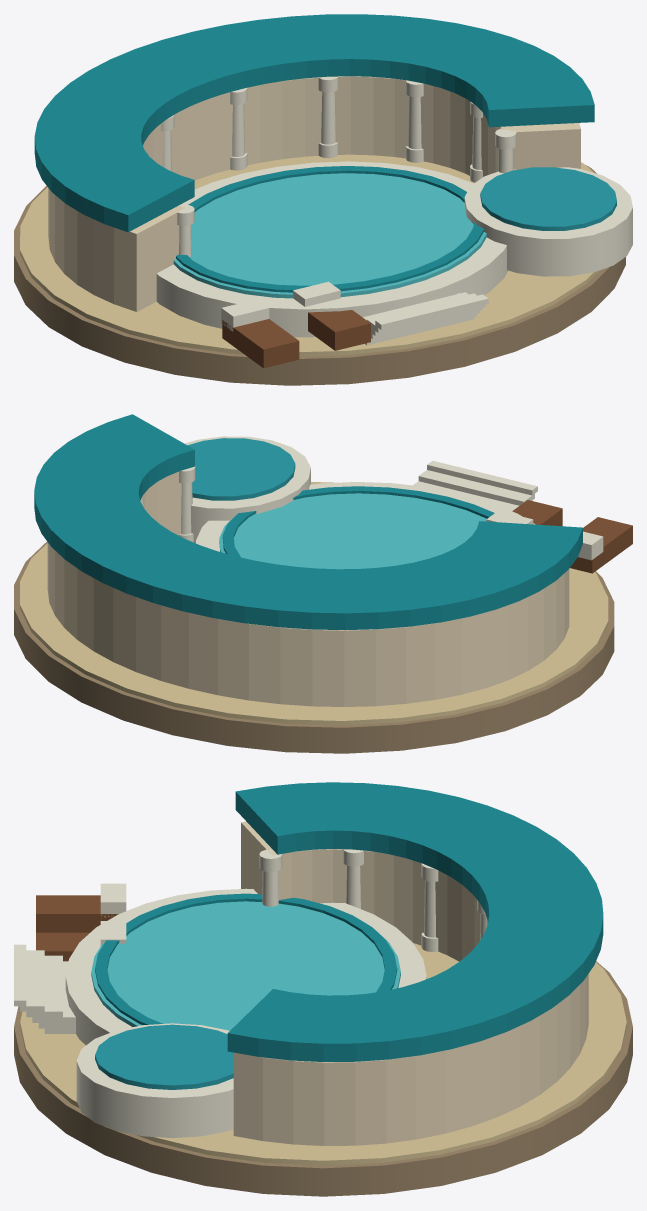
File: recovery-center-lv2.glb
The picture shows the model from 3 angles, top to bottom: view 1: azimuth 30°, elevation 25°; view 2: azimuth 150°, elevation 25°; view 3: azimuth 270°, elevation 25°; orthographic projection. The views are drawn at different scales.
Parts seen in each view (by area): view 1: crescent_roof_aqua, crescent_bathhouse_cream, water_pool, foundation_stoneDark, foundation_sand, pool_terrace_white, raised_pool_white, side_water_water, body_white, pool_mosaic_aqua, sun_loungers_wood, pool_steps_white (+1 smaller); view 2: crescent_roof_aqua, crescent_bathhouse_cream, foundation_stoneDark, foundation_sand, water_pool, side_water_water, raised_pool_white, pool_steps_white, sun_loungers_wood, pool_mosaic_aqua, pool_terrace_white, lounger_cushions_white (+1 smaller); view 3: crescent_roof_aqua, crescent_bathhouse_cream, water_pool, foundation_stoneDark, foundation_sand, raised_pool_white, side_water_water, pool_terrace_white, pool_mosaic_aqua, pool_steps_white, sun_loungers_wood, body_white (+1 smaller).
Boxes of the visible parts, x1,y1,x2,y2 form: crescent_roof_aqua: (34,14,594,232); crescent_bathhouse_cream: (48,76,580,311); water_pool: (173,173,486,298); foundation_stoneDark: (14,165,625,385); foundation_sand: (20,154,599,356); pool_terrace_white: (156,161,507,337); raised_pool_white: (464,167,632,276); side_water_water: (480,167,616,230); body_white: (161,77,516,256); pool_mosaic_aqua: (176,166,484,292); sun_loungers_wood: (222,310,370,368); pool_steps_white: (363,292,488,345); crescent_roof_aqua: (34,414,582,630); crescent_bathhouse_cream: (47,471,569,706); foundation_stoneDark: (14,541,614,753); foundation_sand: (20,482,608,725); water_pool: (219,493,486,569); side_water_water: (188,438,295,500); raised_pool_white: (184,436,310,542); pool_steps_white: (413,460,537,510); sun_loungers_wood: (512,500,632,573); pool_mosaic_aqua: (222,486,494,557); pool_terrace_white: (196,482,535,551); lounger_cushions_white: (486,511,603,560); crescent_roof_aqua: (227,782,603,1061); crescent_bathhouse_cream: (233,821,588,1145); water_pool: (91,901,400,1030); foundation_stoneDark: (14,961,632,1196); foundation_sand: (20,943,626,1165); raised_pool_white: (76,1023,233,1137); side_water_water: (95,1024,233,1089); pool_terrace_white: (65,888,426,1045); pool_mosaic_aqua: (95,893,397,1024); pool_steps_white: (14,944,75,1033); sun_loungers_wood: (36,895,118,961); body_white: (259,849,487,951).
Size of the model in its own units: 1 by 0.2335 by 0.9231.
